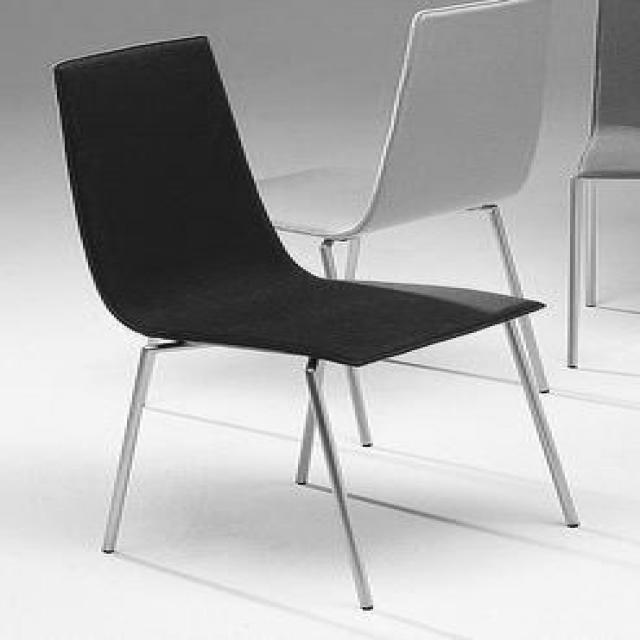chair: (50, 36, 578, 612), (238, 0, 554, 445), (564, 0, 638, 369)
